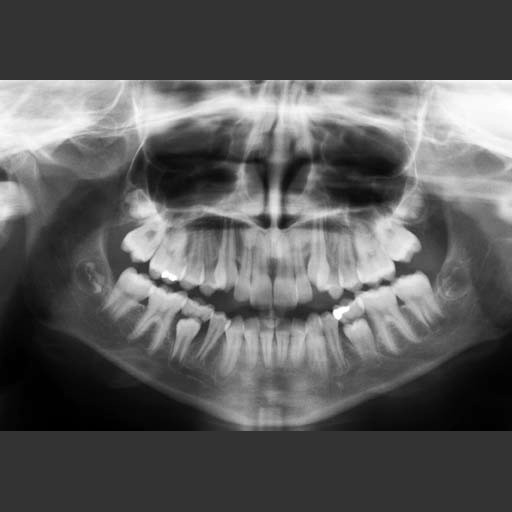canine: (213, 218, 240, 296), (306, 218, 330, 295), (221, 314, 247, 381), (303, 310, 326, 382)
incisor: (247, 228, 274, 311), (272, 236, 299, 312), (295, 231, 314, 307), (233, 230, 250, 303), (289, 316, 308, 379), (273, 316, 293, 373), (244, 315, 261, 377), (260, 315, 277, 375)
molar: (352, 283, 417, 359), (126, 285, 184, 357), (121, 201, 171, 264), (388, 271, 446, 325), (101, 267, 154, 319), (373, 211, 427, 262), (354, 218, 395, 282), (151, 216, 186, 283), (343, 319, 380, 365), (173, 317, 202, 375), (178, 296, 215, 324), (333, 298, 365, 320)
premolar: (200, 310, 233, 370), (199, 226, 225, 299), (318, 307, 345, 373), (180, 218, 205, 284), (325, 222, 345, 297), (339, 224, 361, 291)
